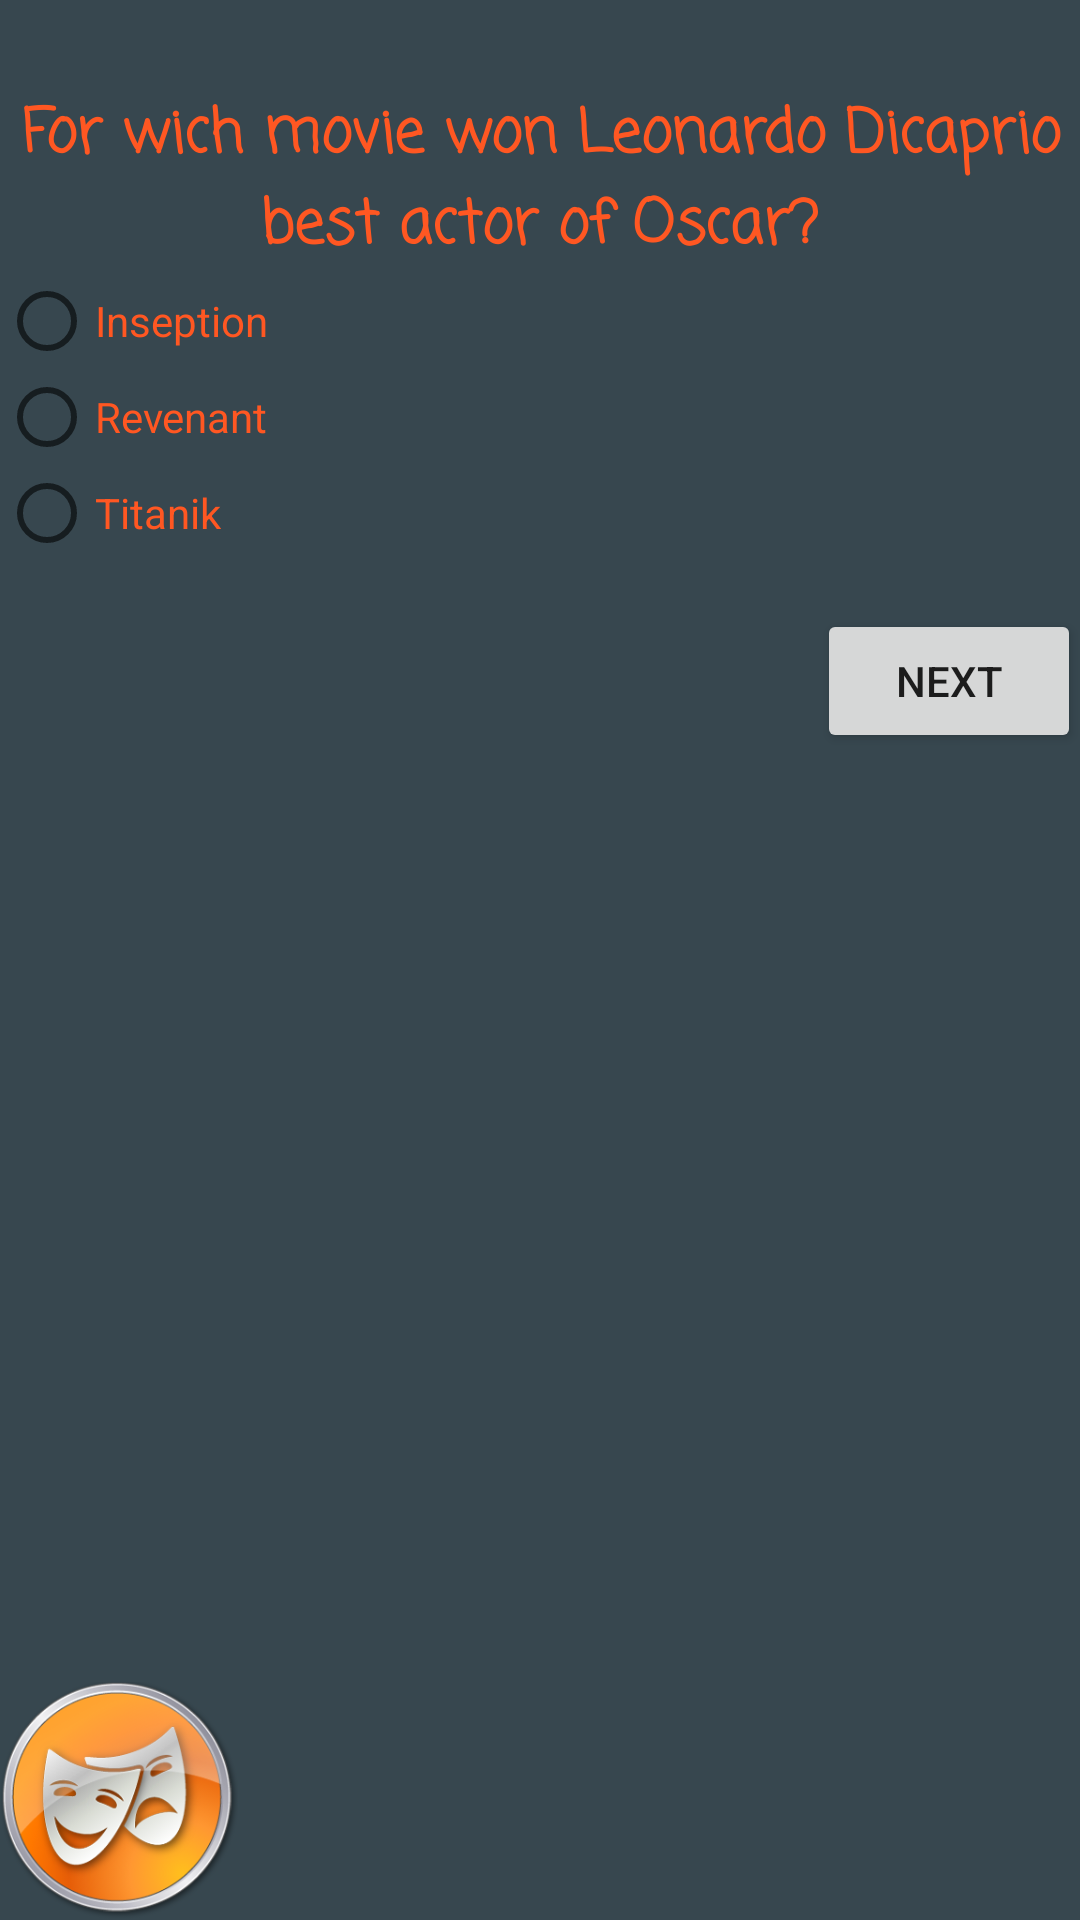

Point at icon controls on the screen. Image size 1080w x 1920h, points as (x=x, y=y).
theater: (x=117, y=1798)
